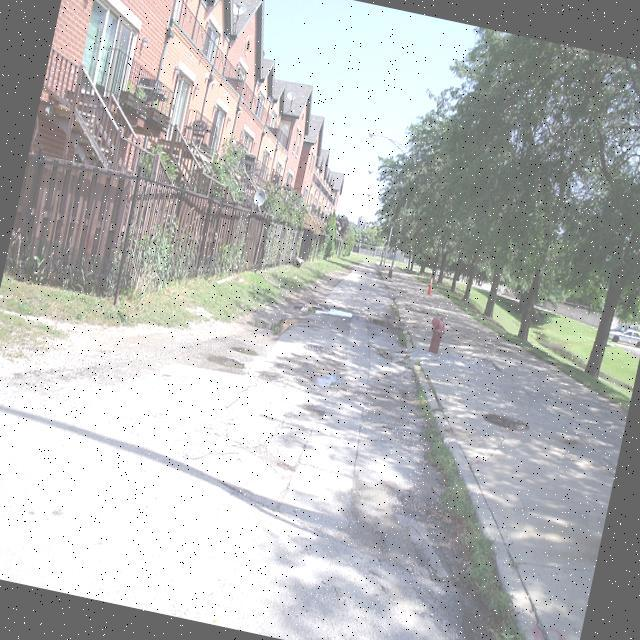fire_hydrant: (424, 314, 446, 352), (424, 274, 435, 297)
